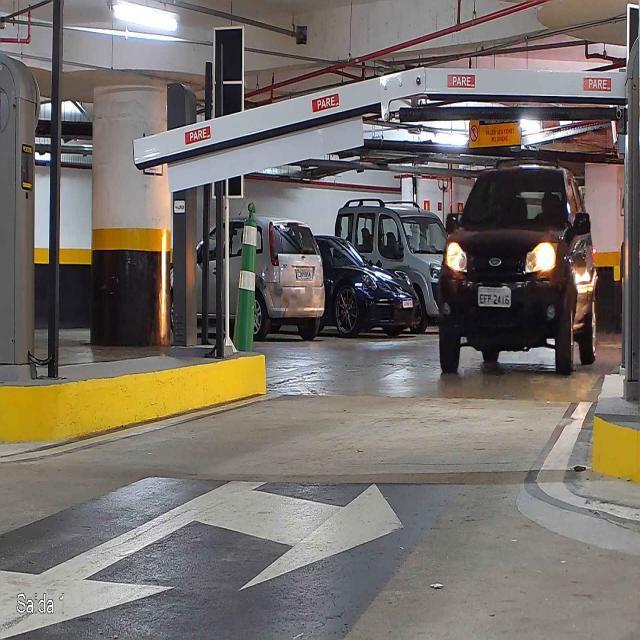old_plate: (477, 286, 513, 310)
